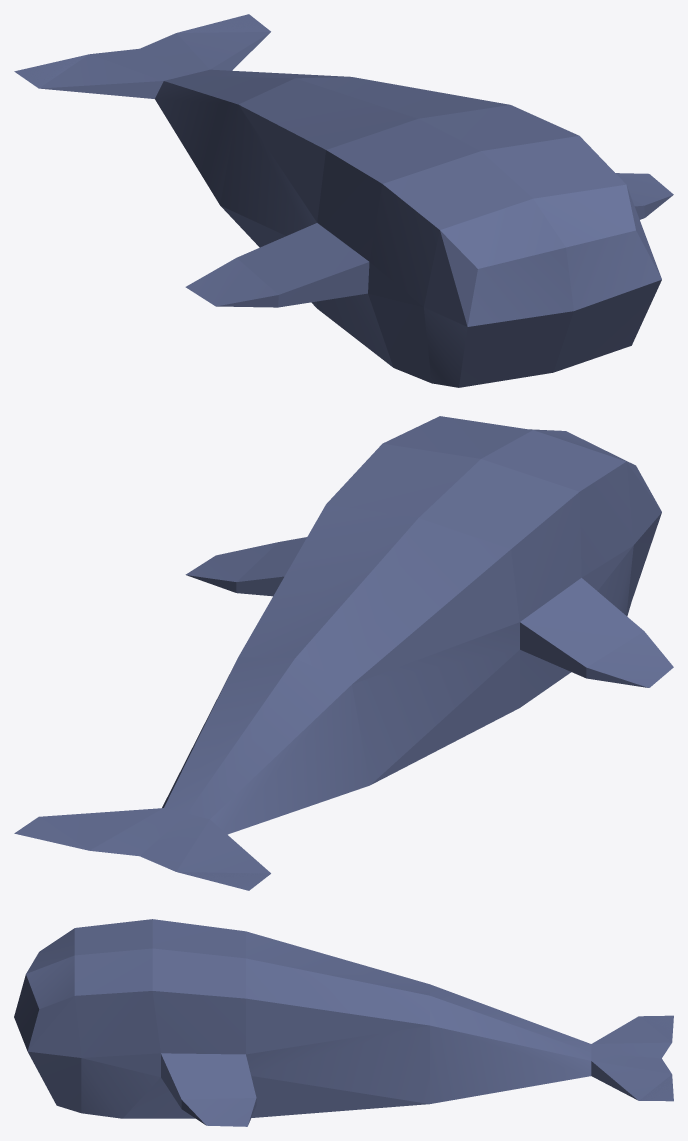
File: whale.FBX
3 renders of one model, top to bottom at view 1: azimuth 30°, elevation 25°; view 2: azimuth 150°, elevation 25°; view 3: azimuth 270°, elevation 25°, orthographic. The views are drawn at different scales.
Visible parts, largest first — view 1: whale; view 2: whale; view 3: whale.
Part boxes in pixels (x1=…): whale: x1=14, y1=14, x2=673, y2=387; whale: x1=14, y1=416, x2=673, y2=890; whale: x1=14, y1=919, x2=673, y2=1126.
Size of the model in its own units: 39.6 by 14.56 by 65.38.
